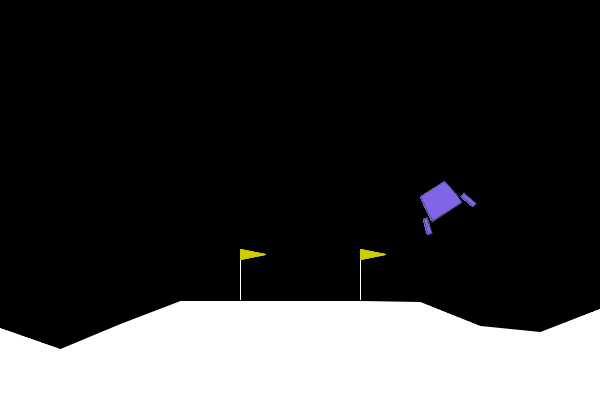lander: (406, 171, 478, 237)
